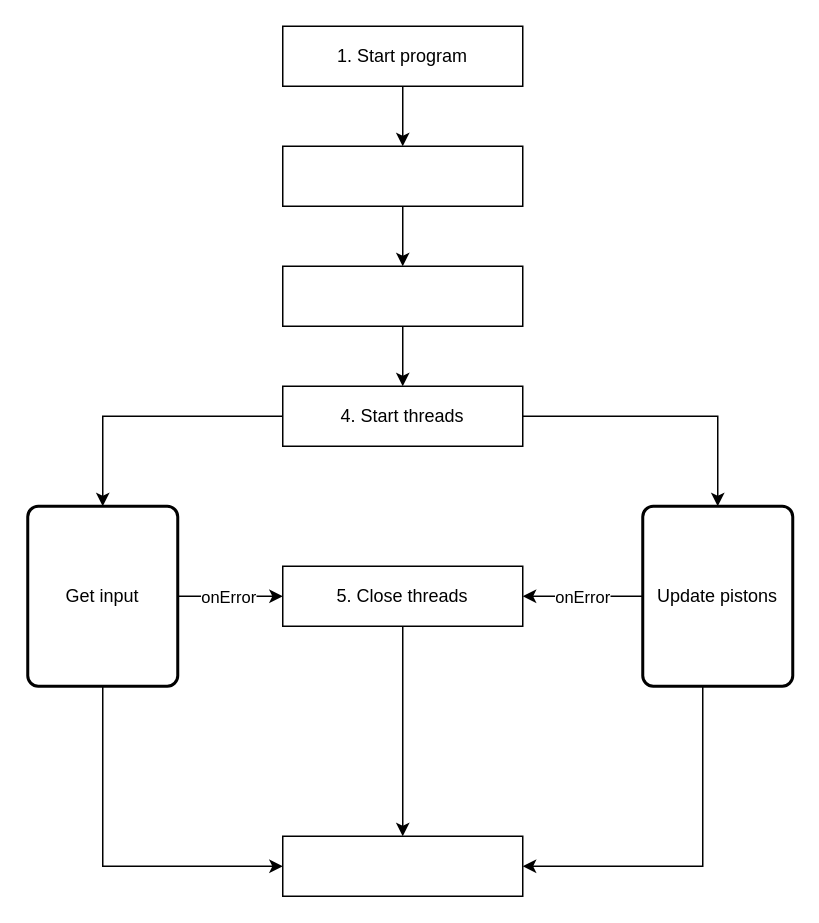
Some shapes in this 819 by 923 pixel diagram are drawn without their labels. Here are the shapes that lost their labels. From the top down, the centre of each, then its label:
the point at 402,175: 2. Connect input
the point at 402,295: 3. Connect output
the point at 402,865: 6. Close program
